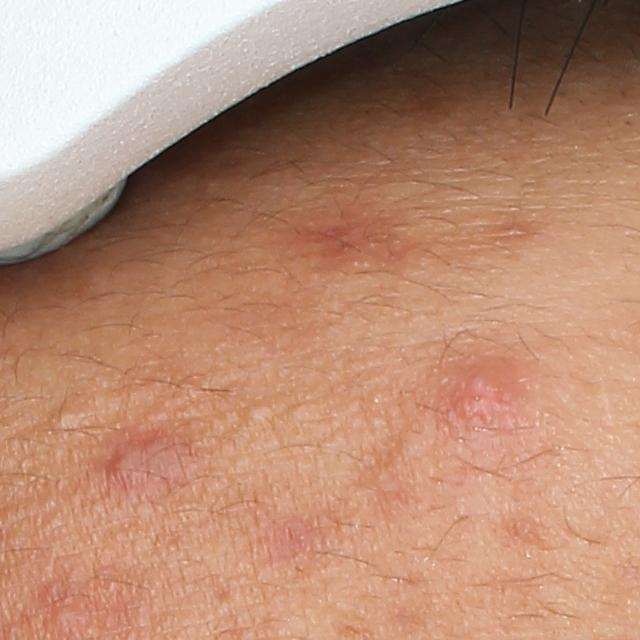comedo: (49, 406, 82, 437), (246, 404, 273, 422), (51, 606, 76, 625)
papule: (439, 356, 517, 432), (109, 437, 160, 480)
